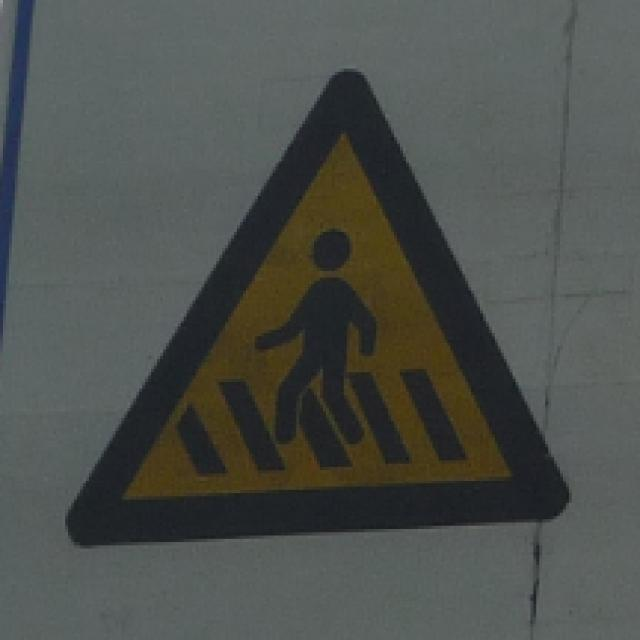Crossing: (54, 59, 581, 548)
